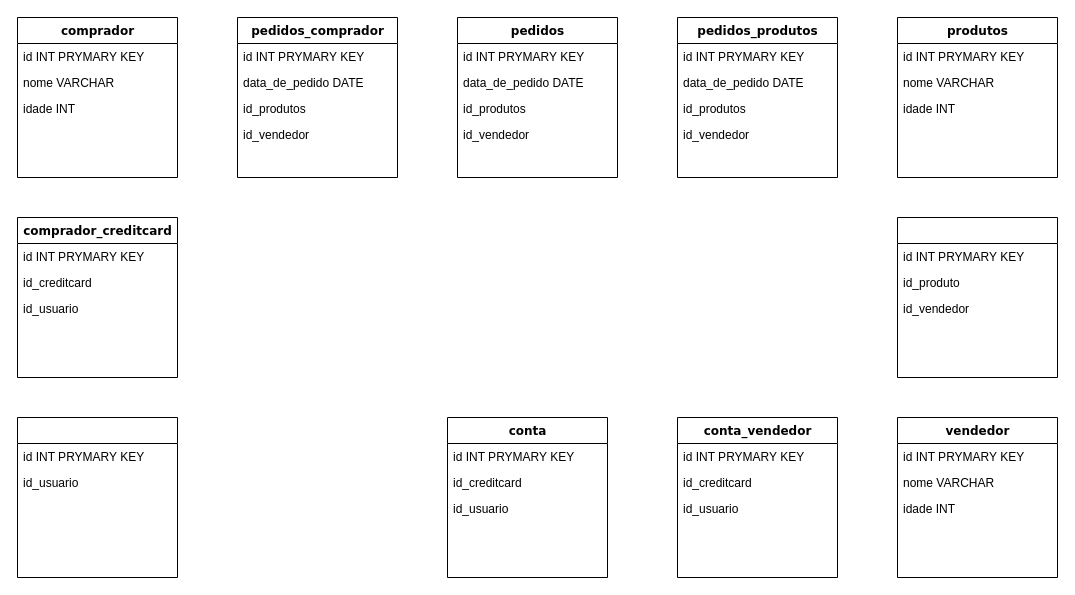
Image size: 1075x595. Some labels were removed from this diagram. The shapes that lost their labels are listed below. From the top down, each one's box as (x1, y1, x2, y2) in pixels, then its label:
(896, 216, 1058, 378): vendedor_produto
(16, 416, 178, 578): creditcard
